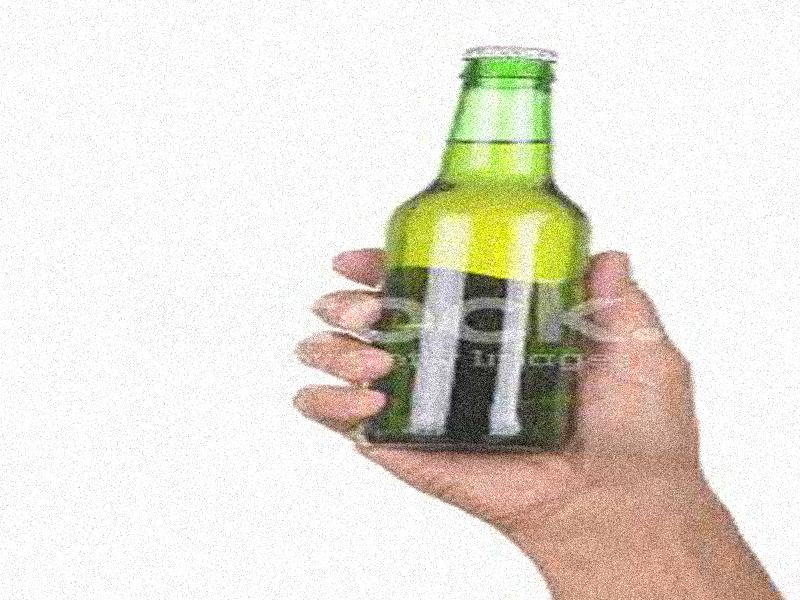Beer: (376, 46, 595, 450)
